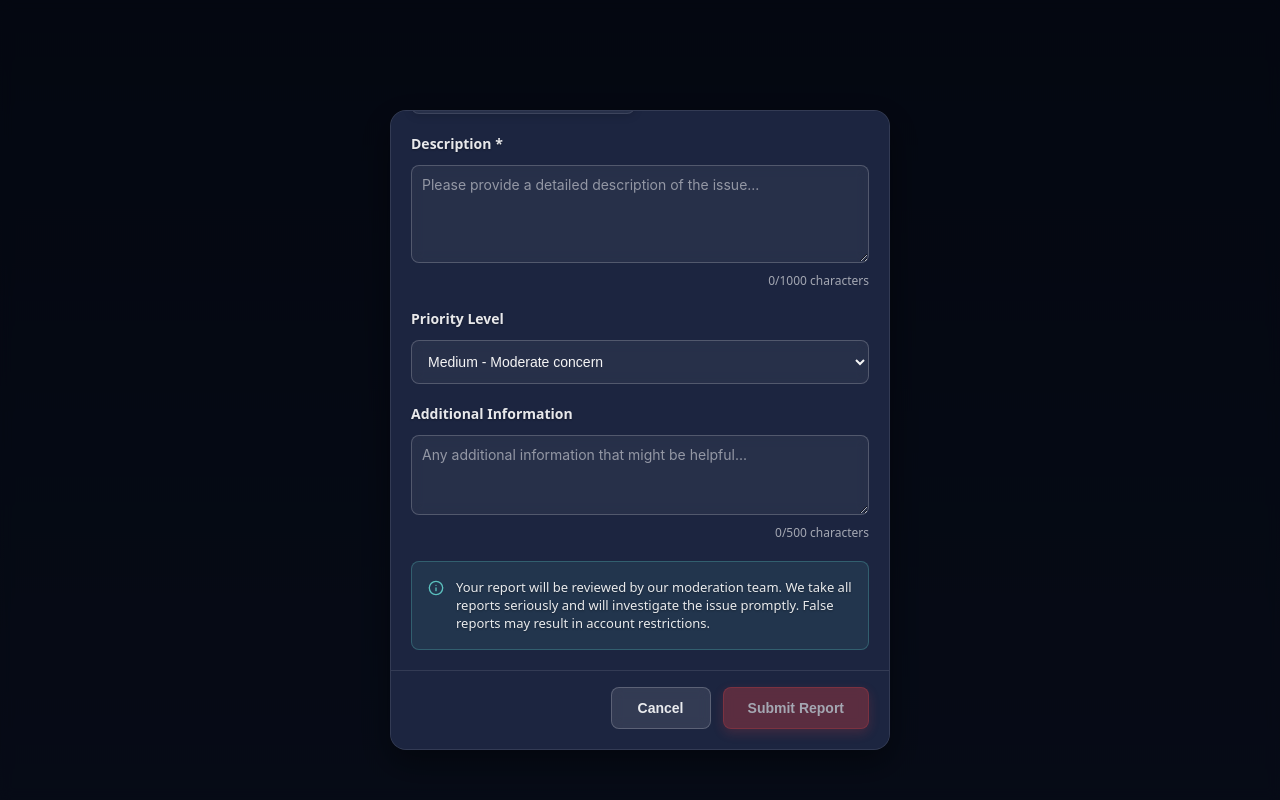
Test: ReportModal › Form Interactions › shows character count for additional details
The image size is (1280, 800).
(page scrolled)
Type "Test" into the text box with placeholder "Any additional information that might be helpful..." at coordinates (640, 475), box [411,435,869,515]
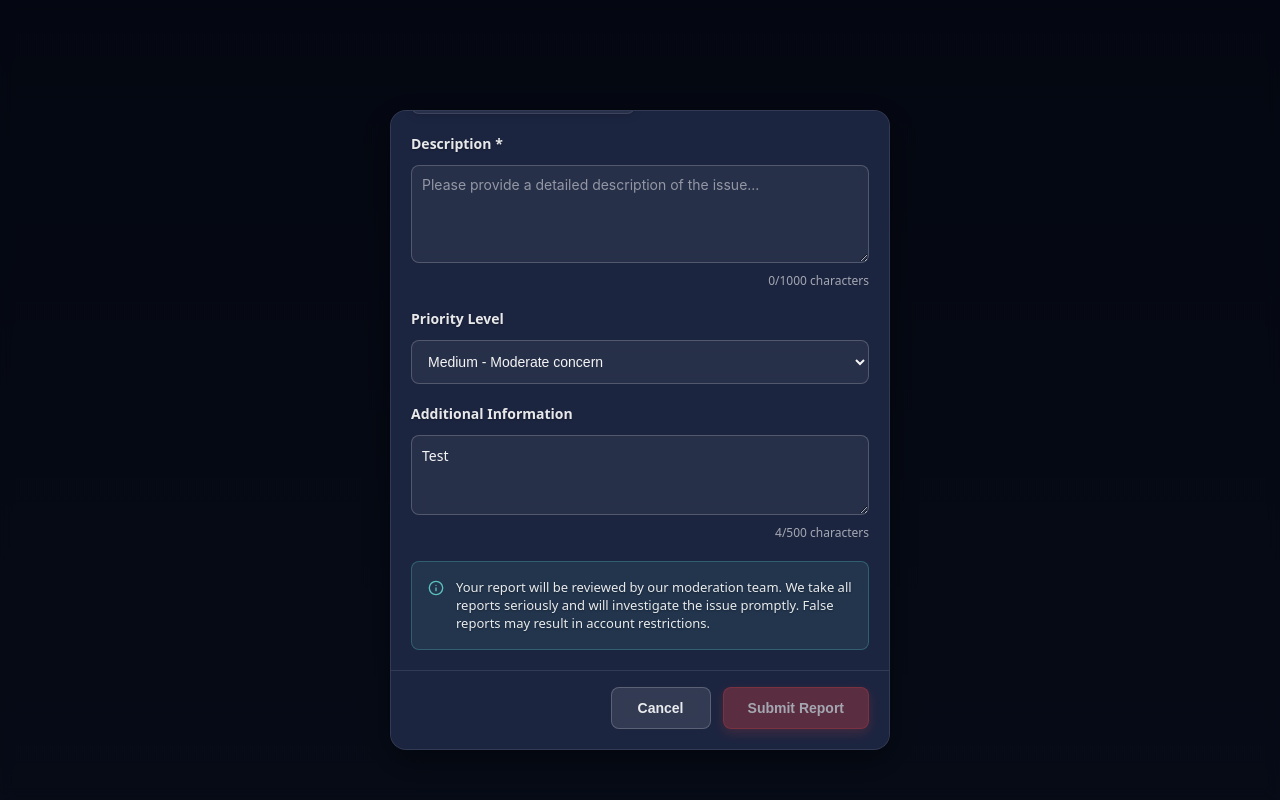
Now the text "4/500 characters" is shown, box [775,524,869,541]
